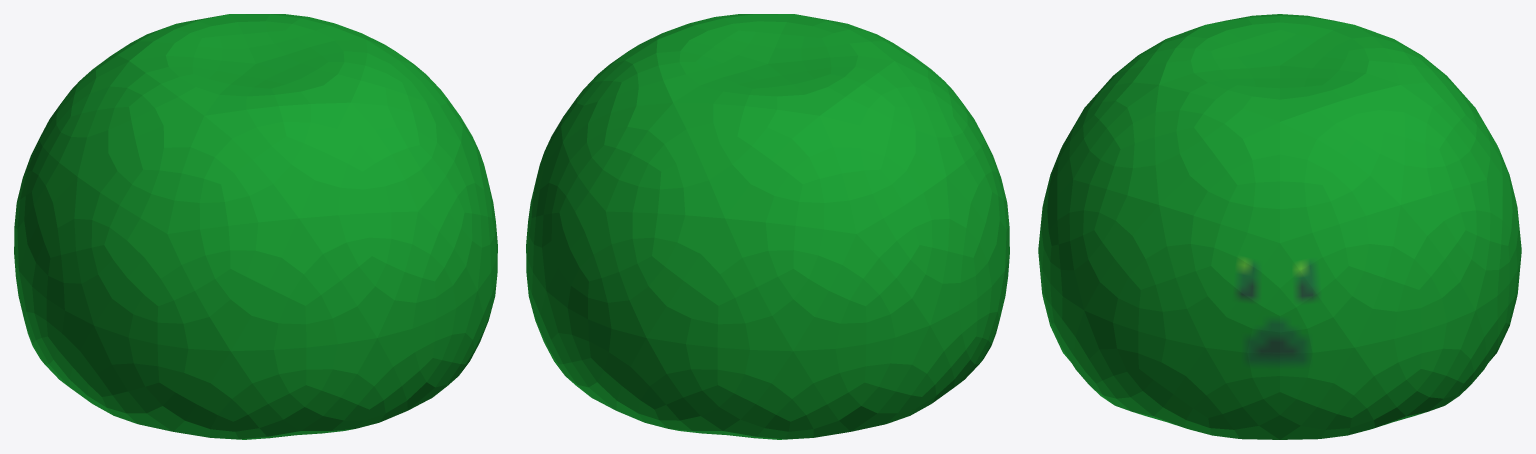
Rendered from Slime.obj.
3 renders of one model, left to right at view 1: azimuth 30°, elevation 25°; view 2: azimuth 150°, elevation 25°; view 3: azimuth 270°, elevation 25°, orthographic.
Parts seen in each view (by area): view 1: Icosphere; view 2: Icosphere; view 3: Icosphere.
Part boxes in pixels (x1,y1,x2,y2): Icosphere: (14, 14, 497, 439); Icosphere: (526, 14, 1009, 439); Icosphere: (1038, 14, 1521, 439).
Bounding box in the file's own units: 1.85 × 1.28 × 1.85.
